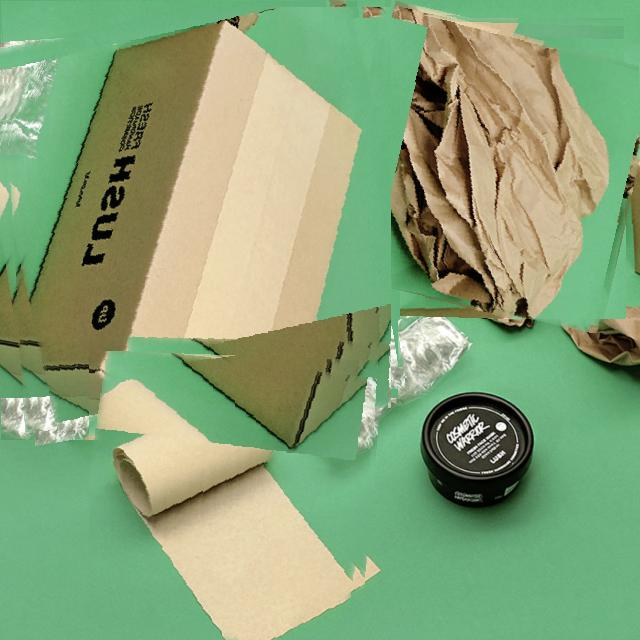biodegradable: (0, 7, 391, 432), (338, 12, 640, 319), (89, 350, 378, 640)
